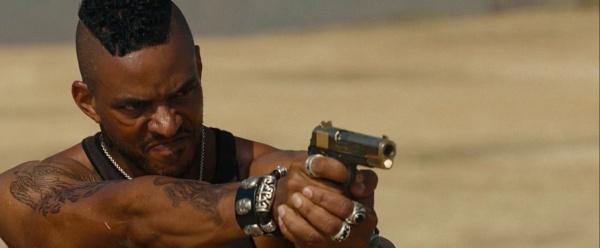Gun: (307, 120, 397, 173)
